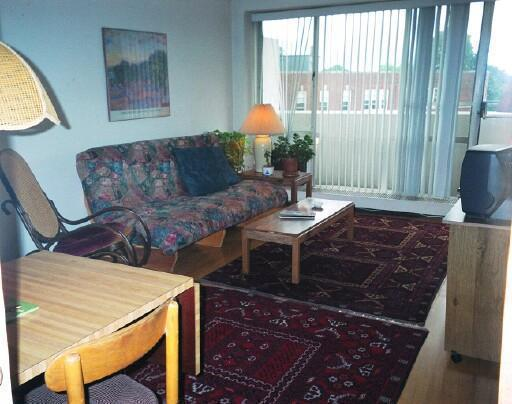Ventana: (260, 13, 407, 195), (404, 10, 511, 201)
